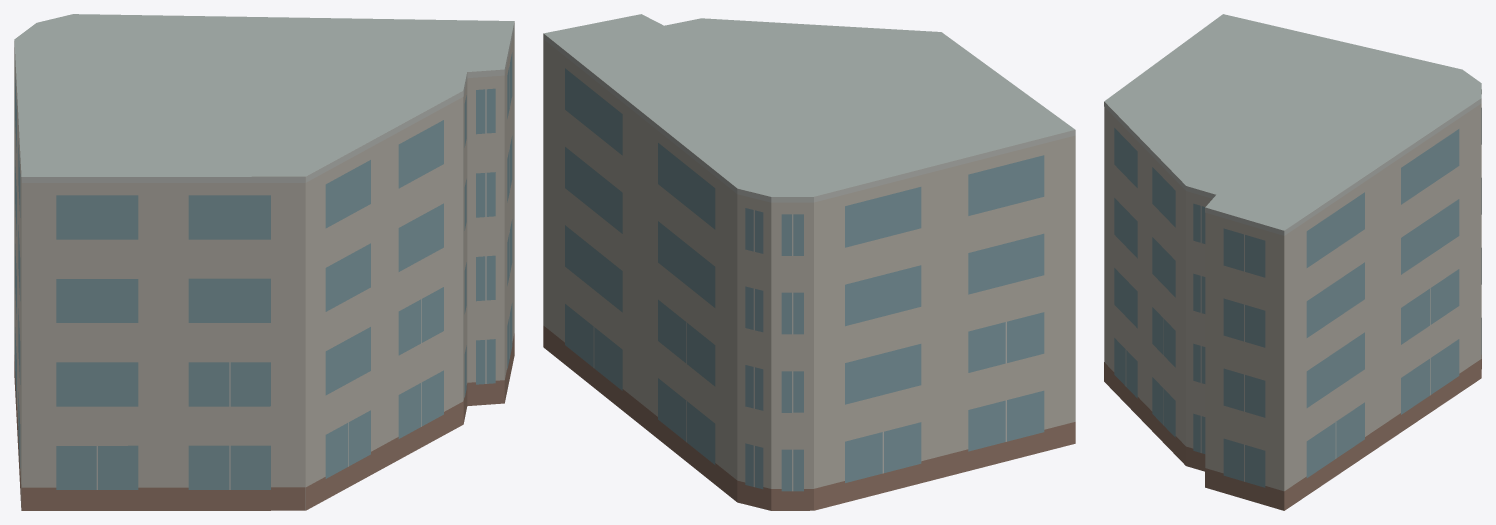
File: survey-upis-32485643.glb
3 renders of one model, left to right at view 1: azimuth 30°, elevation 25°; view 2: azimuth 150°, elevation 25°; view 3: azimuth 270°, elevation 25°, orthographic. The views are drawn at different scales.
Parts seen in each view (by area): view 1: survey-upis-32485643.tmp; view 2: survey-upis-32485643.tmp; view 3: survey-upis-32485643.tmp.
Part boxes in pixels (x1,y1,x2,y2): survey-upis-32485643.tmp: (14, 14, 514, 510); survey-upis-32485643.tmp: (543, 14, 1075, 510); survey-upis-32485643.tmp: (1104, 14, 1481, 510).
Size of the model in its own units: 22.16 by 13.35 by 16.32.
